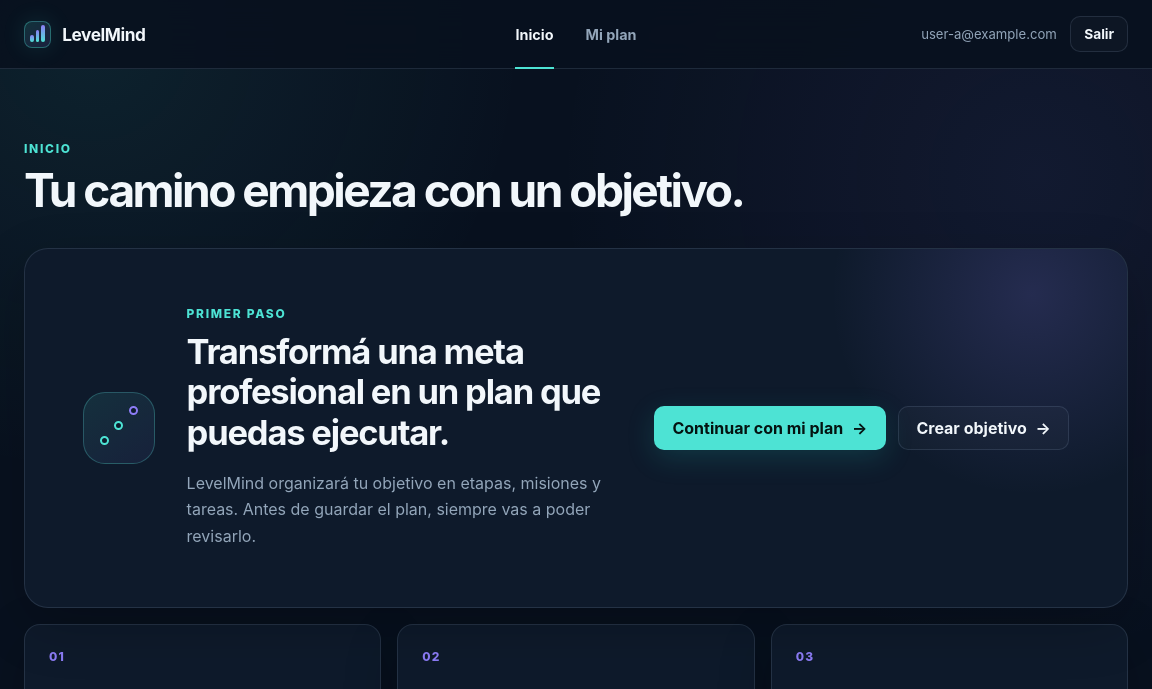
it: backend-driven active goal recovery › does not recreate plan navigation after logout and login without an active Goal
Expected: the link "Continuar con mi plan →" is shown, [654,406,886,450]
Click the button "Salir" at (1099, 34), box [1070,16,1128,52]
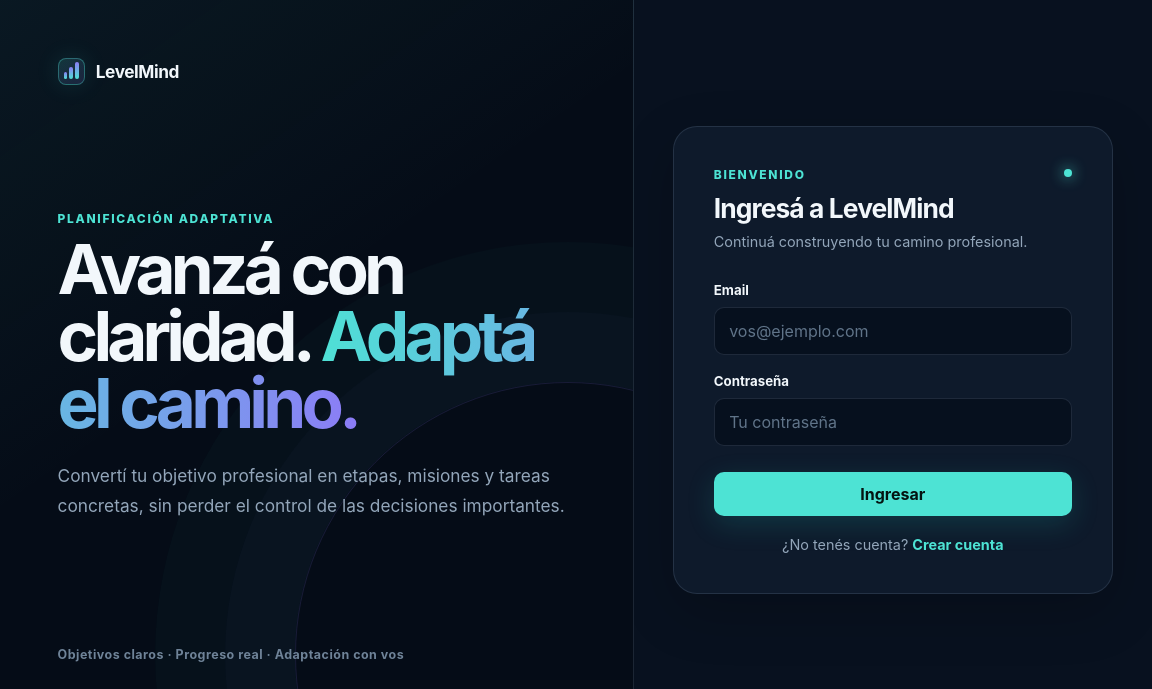
Expected: the heading "Ingresá a LevelMind" is shown, [714,192,954,224]
Type "user@example.com" into the field labelled "Email" at (893, 331), box [714,307,1072,355]
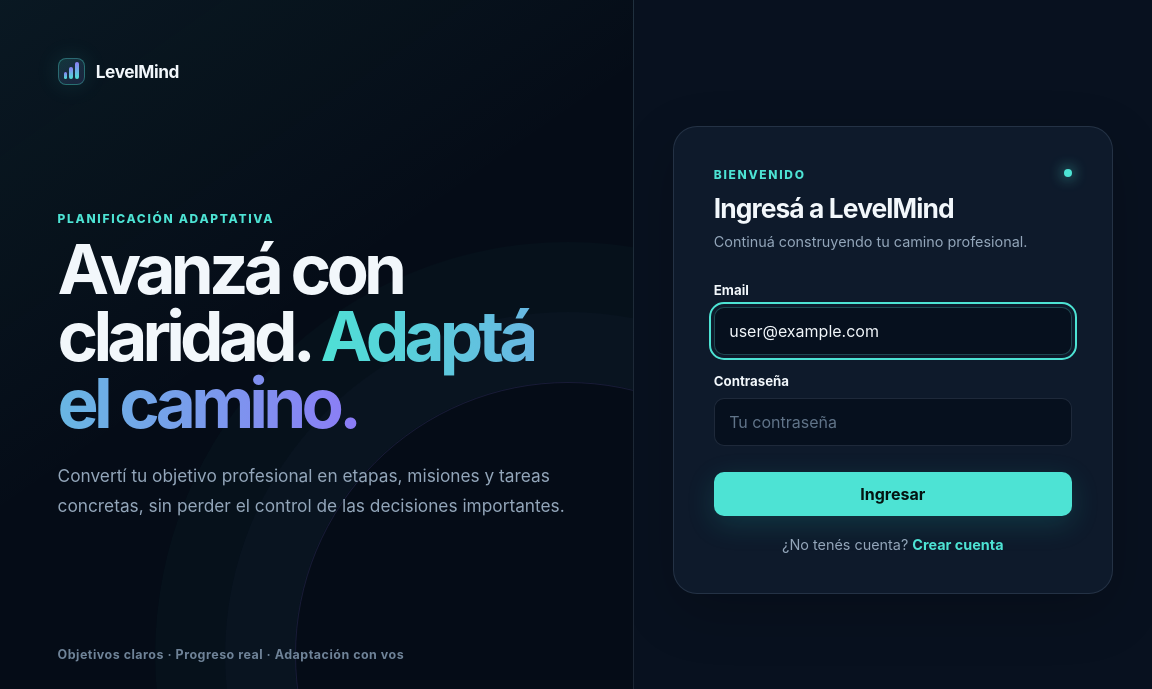
Type "password" into the password field labelled "Contraseña" at (893, 422), box [714,398,1072,446]
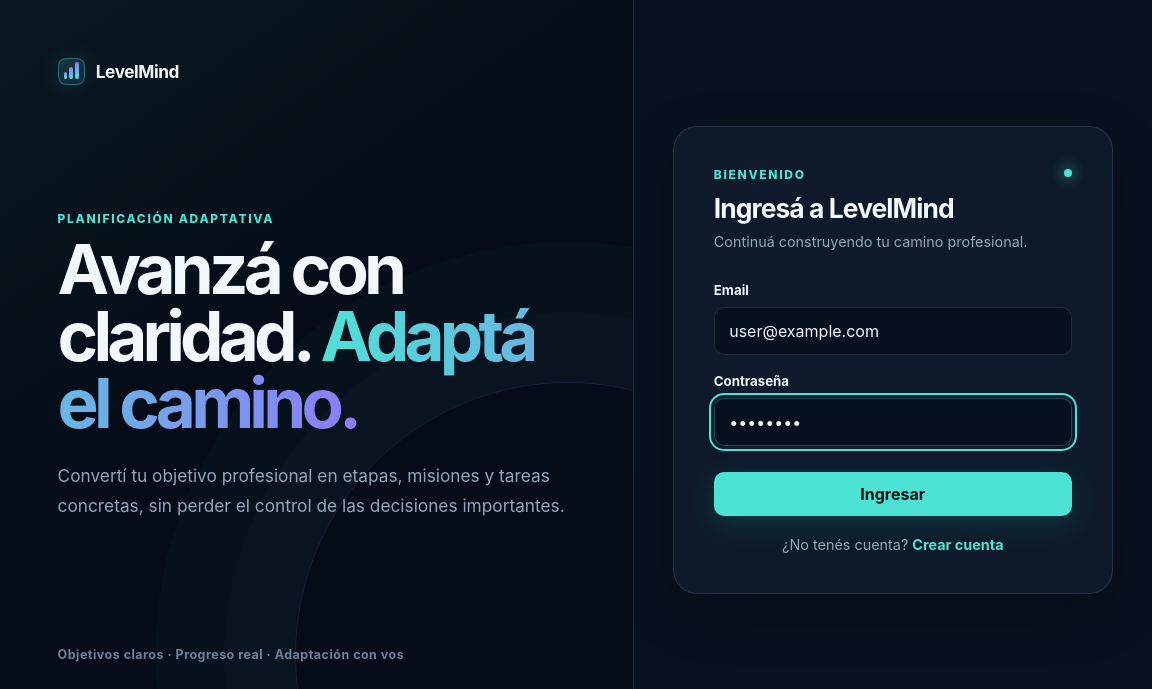
Click the button "Ingresar" at (893, 494), box [714,472,1072,516]
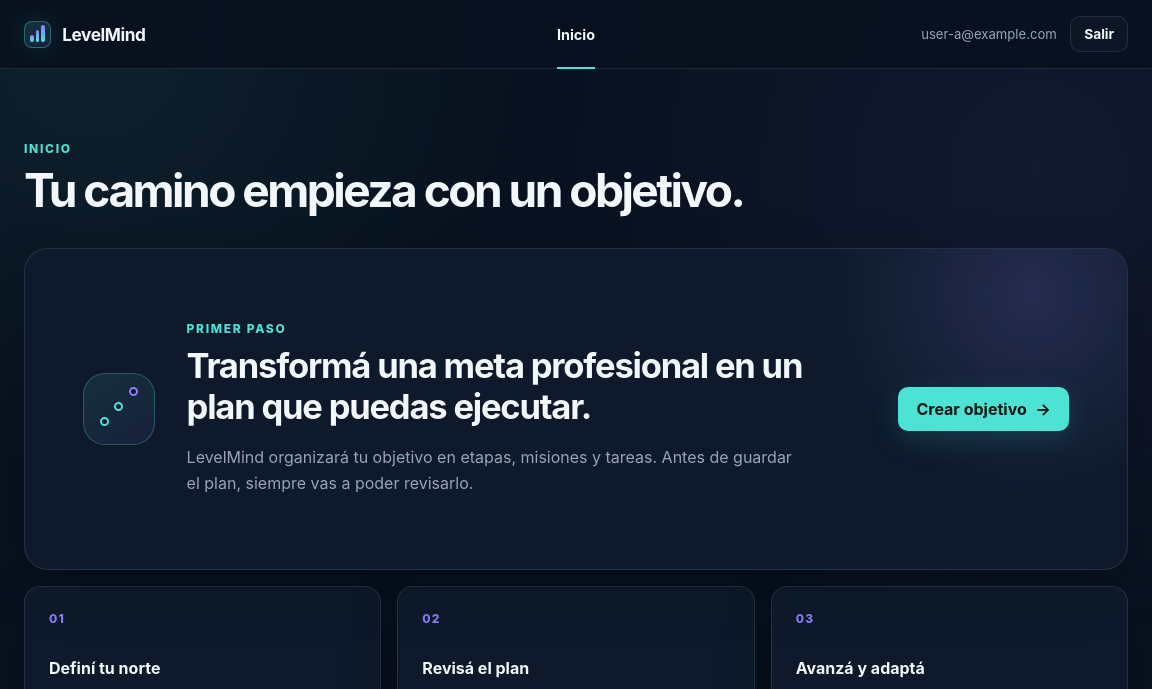
Expected: the link "Continuar con mi plan" is not shown
Expected: the link "Crear objetivo →" is shown, [898,386,1069,431]
